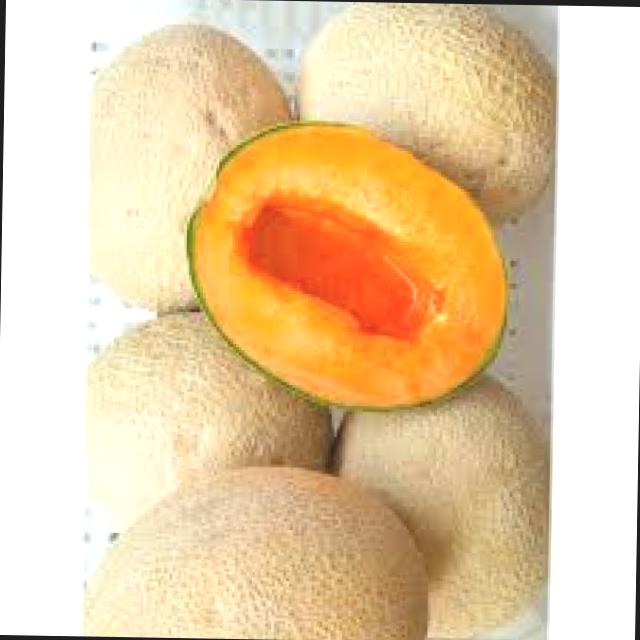cantaloupe: (186, 115, 506, 408)
